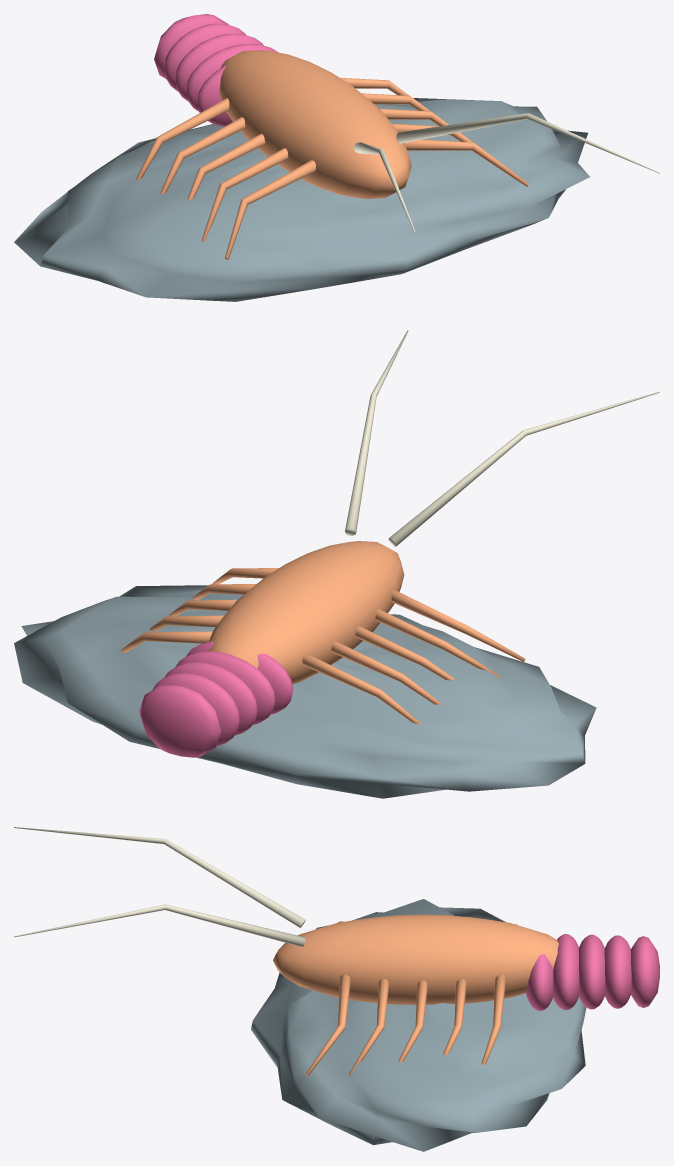
File: underwater-reef-worlds-spiny-lobster-d5baa94c__7033.glb
3 renders of one model, top to bottom at view 1: azimuth 30°, elevation 25°; view 2: azimuth 150°, elevation 25°; view 3: azimuth 270°, elevation 25°, orthographic. The views are drawn at different scales.
Visible parts, largest first — view 1: spiny-lobster; view 2: spiny-lobster; view 3: spiny-lobster.
Boxes of the visible parts, x1=… form: spiny-lobster: x1=14, y1=14, x2=659, y2=301; spiny-lobster: x1=14, y1=330, x2=659, y2=798; spiny-lobster: x1=14, y1=827, x2=659, y2=1151.
Bounding box in the file's own units: 1.35 × 0.4261 × 1.5.
